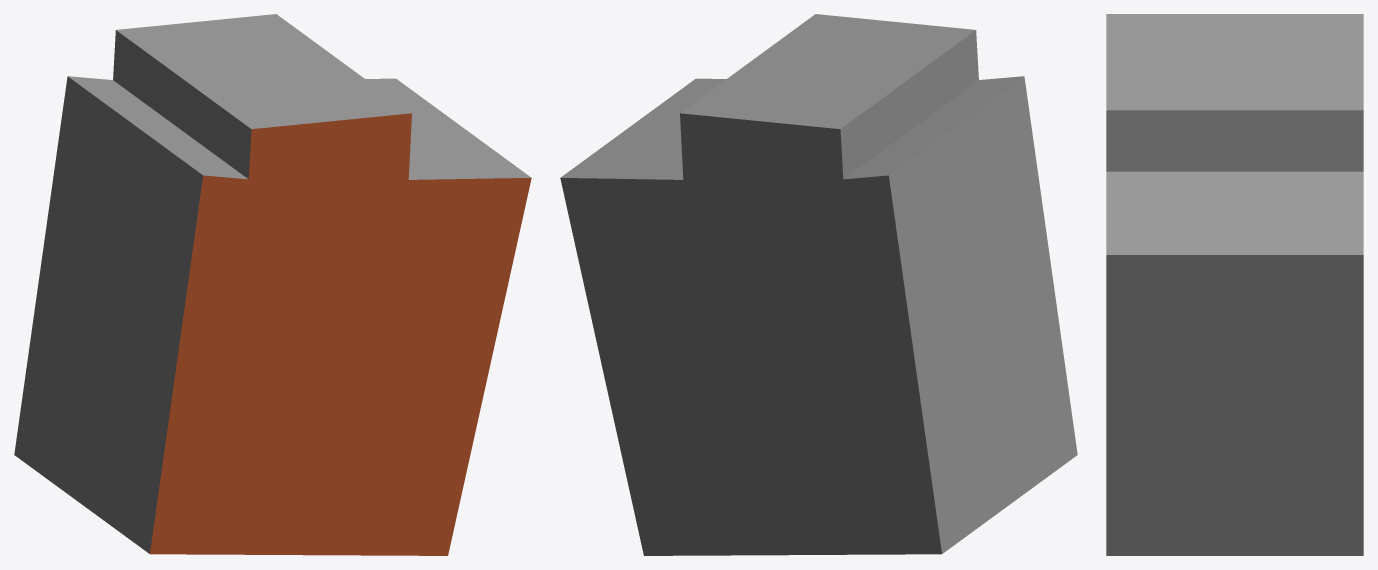
The model's file is construction_6803_assumed_A_Casa_h6m.obj.
The picture shows the model from 3 angles, left to right: view 1: azimuth 30°, elevation 25°; view 2: azimuth 150°, elevation 25°; view 3: azimuth 270°, elevation 25°; orthographic projection. The views are drawn at different scales.
Visible parts, largest first — view 1: construction_6803_assumed_A_Casa; view 2: construction_6803_assumed_A_Casa; view 3: construction_6803_assumed_A_Casa.
Boxes of the visible parts, left/top/right/bottom form: construction_6803_assumed_A_Casa: left=14, top=14, right=531, bottom=555; construction_6803_assumed_A_Casa: left=560, top=14, right=1077, bottom=555; construction_6803_assumed_A_Casa: left=1106, top=14, right=1363, bottom=555.
Size of the model in its own units: 9.75 by 11.59 by 6.
